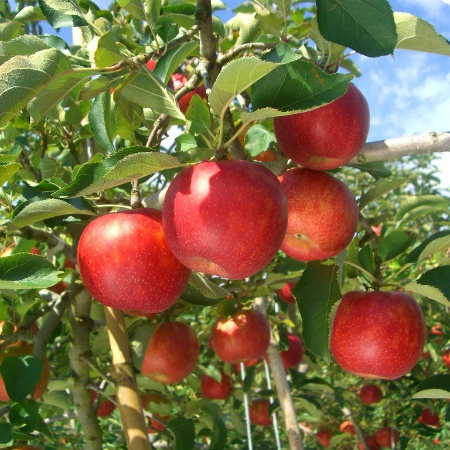apple: (159, 156, 290, 280), (74, 208, 190, 316), (265, 68, 376, 163), (263, 167, 358, 262), (326, 289, 423, 379), (118, 322, 200, 383), (208, 309, 270, 373), (122, 390, 172, 429), (269, 334, 307, 374), (244, 395, 282, 430), (355, 385, 382, 403), (421, 412, 440, 429)
